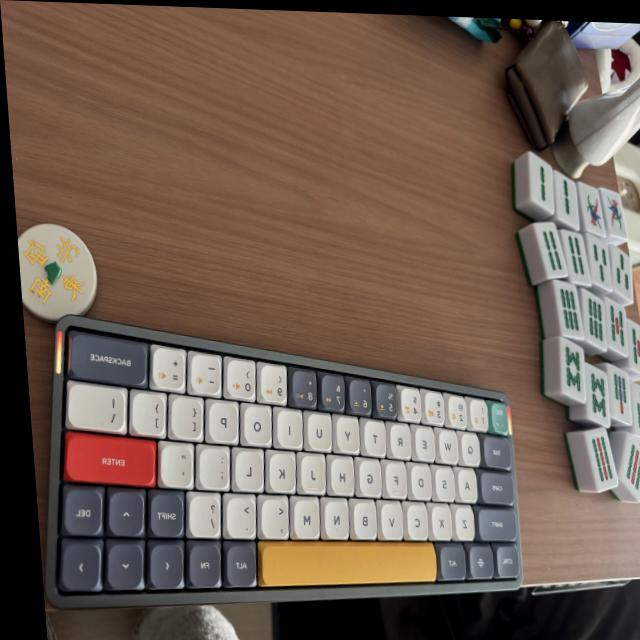1B: (578, 183, 606, 239), (600, 188, 625, 238)
2B: (527, 152, 555, 215), (553, 170, 580, 230)
3B: (585, 236, 611, 290), (608, 248, 632, 300)
4B: (534, 220, 568, 279), (561, 231, 591, 284)
5B: (604, 302, 629, 357), (627, 321, 640, 377)
6B: (553, 280, 583, 338), (580, 290, 607, 346)
7B: (607, 365, 633, 426), (629, 382, 640, 442)
8B: (558, 338, 588, 403), (583, 365, 610, 426)
9B: (584, 427, 620, 494), (616, 434, 640, 503)
